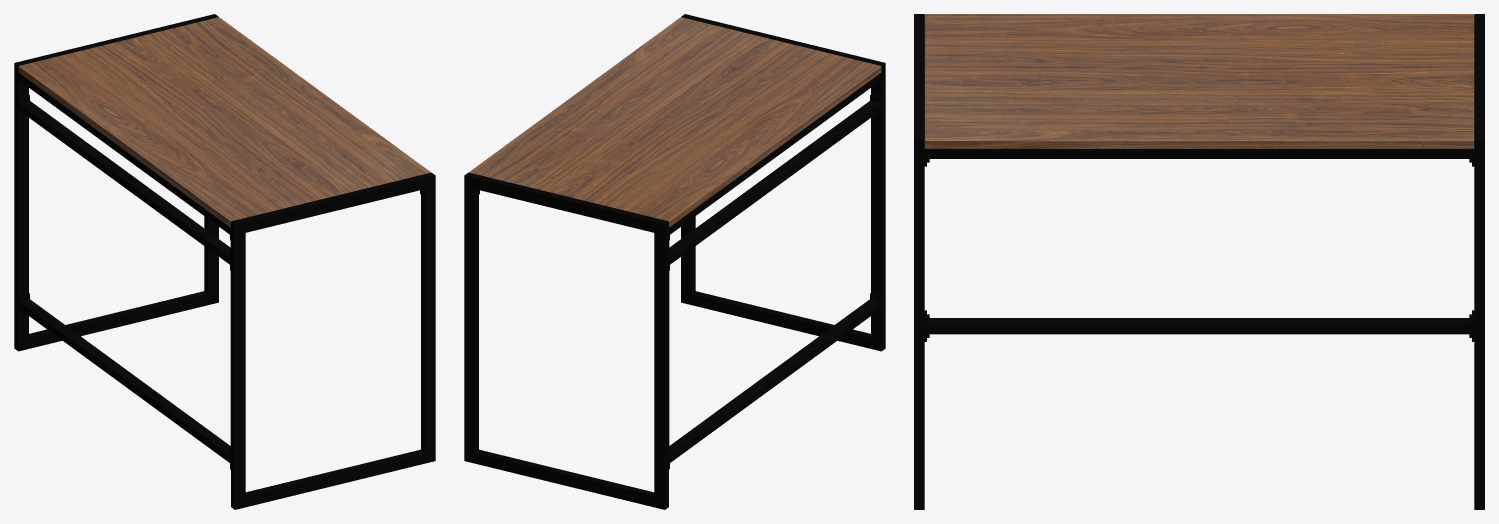
File: Studydesk.glb
The picture shows the model from 3 angles, left to right: view 1: azimuth 30°, elevation 25°; view 2: azimuth 150°, elevation 25°; view 3: azimuth 270°, elevation 25°; orthographic projection. The views are drawn at different scales.
Visible parts, largest first — view 1: wood, metal; view 2: wood, metal; view 3: wood, metal.
Boxes of the visible parts, x1=… form: wood: x1=18, y1=17, x2=430, y2=227; metal: x1=14, y1=14, x2=435, y2=509; wood: x1=469, y1=17, x2=881, y2=227; metal: x1=464, y1=14, x2=885, y2=509; wood: x1=924, y1=14, x2=1474, y2=148; metal: x1=914, y1=14, x2=1484, y2=509.
Bounding box in the file's own units: 0.8095 × 1.1 × 1.54.
2 materials, 1 textured.
